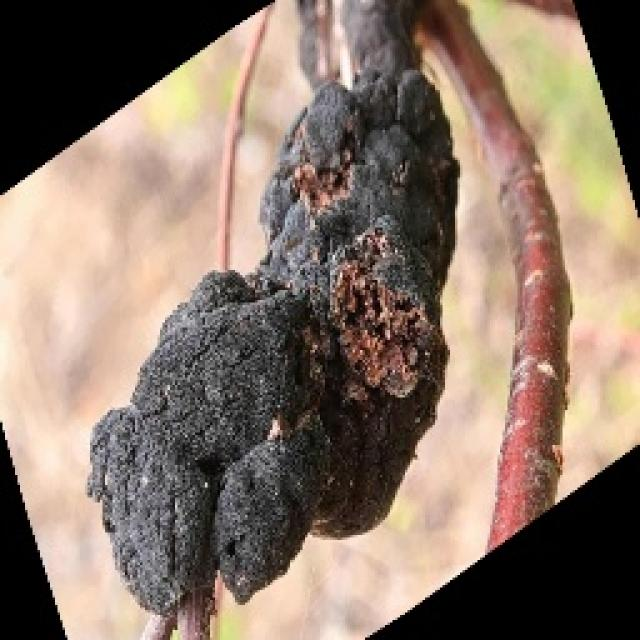Black_knot: (82, 0, 462, 618)
